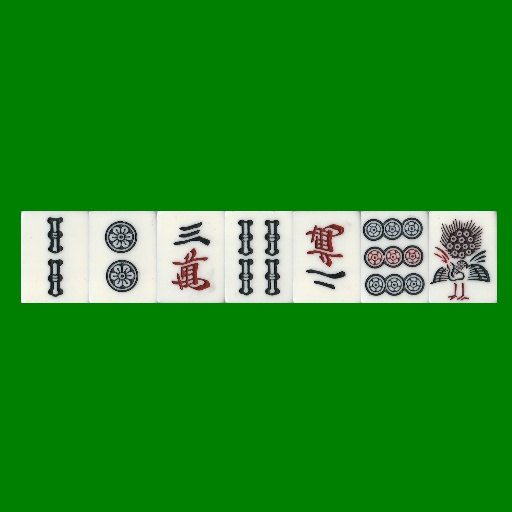1s: (429, 211, 497, 303)
2m: (293, 211, 361, 303)
2p: (89, 211, 157, 303)
2s: (21, 211, 89, 303)
3m: (157, 211, 225, 303)
4s: (225, 211, 293, 303)
9p: (361, 211, 429, 303)
